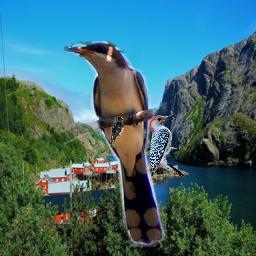Cuckoo: (64, 41, 167, 247)
Swallow: (109, 116, 124, 148)
Woodpecker: (146, 112, 188, 183)
